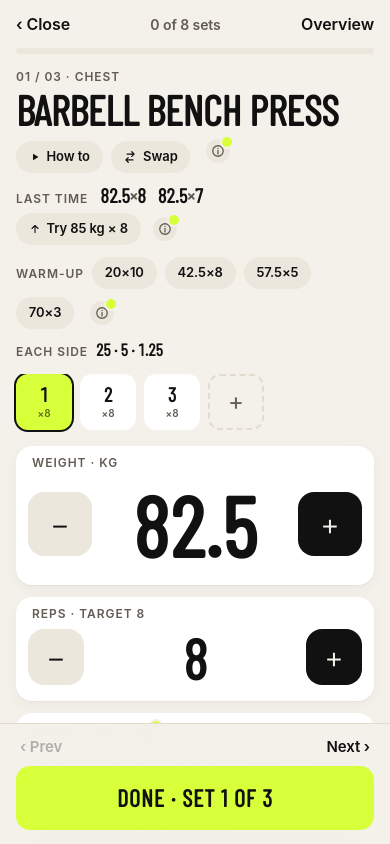
workout flow › a normal exercise still rests after every set
Click the button "Done · set 1 of 3" at (195, 798), box [16,766,374,830]
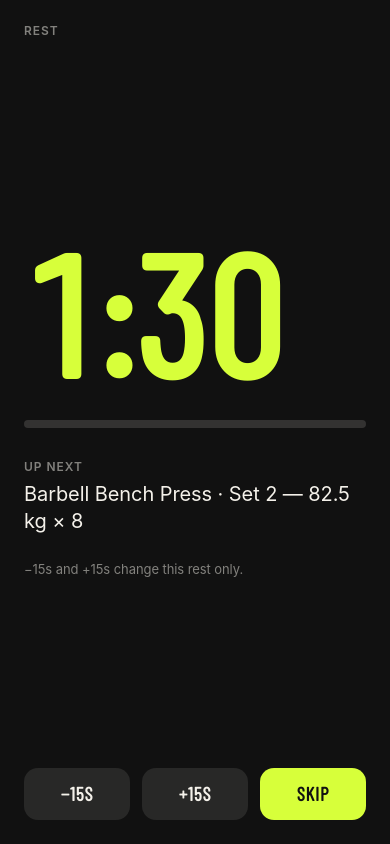
Result: the button "Skip" is shown at [260,768,366,820]
Result: the text "Barbell Bench Press · Set 2" is shown at [24,482,350,533]
